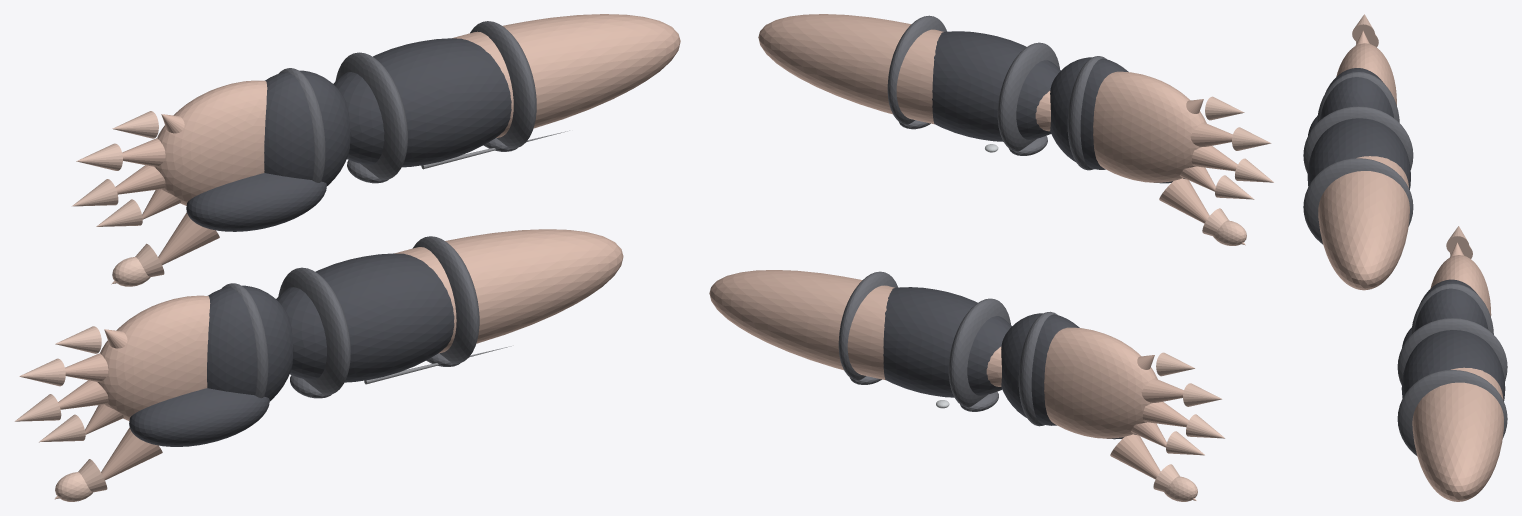
Rendered from mano.glb.
3 views of the same model, side by side, from view 1: azimuth 30°, elevation 25°; view 2: azimuth 150°, elevation 25°; view 3: azimuth 270°, elevation 25° (orthographic). The views are drawn at different scales.
Parts seen in each view (by area): view 1: lower_left_wrist_orthosis_forearm_shell, upper_right_wrist_orthosis_forearm_shell, upper_right_wrist_orthosis_forearm, lower_left_wrist_orthosis_forearm, upper_right_wrist_orthosis_palm, lower_left_wrist_orthosis_palm, upper_right_wrist_orthosis_wrist_shell, lower_left_wrist_orthosis_wrist_shell, upper_right_wrist_orthosis_thumb_spica, lower_left_wrist_orthosis_thumb_spica, lower_left_wrist_orthosis_velcro_band_1, upper_right_wrist_orthosis_velcro_band_1 (+20 smaller); view 2: upper_right_wrist_orthosis_forearm, lower_left_wrist_orthosis_forearm, lower_left_wrist_orthosis_palm, upper_right_wrist_orthosis_palm, lower_left_wrist_orthosis_forearm_shell, upper_right_wrist_orthosis_forearm_shell, upper_right_wrist_orthosis_wrist_shell, lower_left_wrist_orthosis_wrist_shell, lower_left_wrist_orthosis_velcro_band_1, upper_right_wrist_orthosis_velcro_band_1, upper_right_wrist_orthosis_velcro_band_2, lower_left_wrist_orthosis_velcro_band_2 (+10 smaller); view 3: upper_right_wrist_orthosis_forearm, lower_left_wrist_orthosis_forearm, upper_right_wrist_orthosis_forearm_shell, lower_left_wrist_orthosis_forearm_shell, upper_right_wrist_orthosis_velcro_band_2, lower_left_wrist_orthosis_velcro_band_2, lower_left_wrist_orthosis_wrist_shell, upper_right_wrist_orthosis_wrist_shell, lower_left_wrist_orthosis_velcro_band_1, upper_right_wrist_orthosis_velcro_band_1, upper_right_wrist_orthosis_palm, lower_left_wrist_orthosis_palm (+4 smaller).
Boxes of the visible parts, x1,y1,x2,y2 form: lower_left_wrist_orthosis_forearm_shell: (276,253,454,382); upper_right_wrist_orthosis_forearm_shell: (333,38,511,167); upper_right_wrist_orthosis_forearm: (452,14,680,137); lower_left_wrist_orthosis_forearm: (394,229,623,353); upper_right_wrist_orthosis_palm: (154,80,267,205); lower_left_wrist_orthosis_palm: (97,295,210,420); upper_right_wrist_orthosis_wrist_shell: (264,70,350,185); lower_left_wrist_orthosis_wrist_shell: (207,285,292,401); upper_right_wrist_orthosis_thumb_spica: (186,173,326,231); lower_left_wrist_orthosis_thumb_spica: (129,388,269,446); lower_left_wrist_orthosis_velcro_band_1: (278,267,350,395); upper_right_wrist_orthosis_velcro_band_1: (335,52,407,180); upper_right_wrist_orthosis_forearm: (758,14,1050,131); lower_left_wrist_orthosis_forearm: (709,270,1001,386); lower_left_wrist_orthosis_palm: (1044,327,1157,438); upper_right_wrist_orthosis_palm: (1093,71,1206,182); lower_left_wrist_orthosis_forearm_shell: (883,287,1011,397); upper_right_wrist_orthosis_forearm_shell: (932,31,1060,141); upper_right_wrist_orthosis_wrist_shell: (1050,57,1128,169); lower_left_wrist_orthosis_wrist_shell: (1001,313,1079,425); lower_left_wrist_orthosis_velcro_band_1: (948,298,1010,407); upper_right_wrist_orthosis_velcro_band_1: (997,42,1059,151); upper_right_wrist_orthosis_velcro_band_2: (887,15,946,124); lower_left_wrist_orthosis_velcro_band_2: (838,271,898,380); upper_right_wrist_orthosis_forearm: (1318,156,1409,290); lower_left_wrist_orthosis_forearm: (1412,367,1503,501); upper_right_wrist_orthosis_forearm_shell: (1307,118,1410,189); lower_left_wrist_orthosis_forearm_shell: (1401,330,1505,401); upper_right_wrist_orthosis_velcro_band_2: (1303,158,1413,244); lower_left_wrist_orthosis_velcro_band_2: (1397,370,1507,456); lower_left_wrist_orthosis_wrist_shell: (1414,279,1488,331); upper_right_wrist_orthosis_wrist_shell: (1320,68,1393,120); lower_left_wrist_orthosis_velcro_band_1: (1397,318,1507,385); upper_right_wrist_orthosis_velcro_band_1: (1303,106,1413,173); upper_right_wrist_orthosis_palm: (1336,43,1396,105); lower_left_wrist_orthosis_palm: (1430,255,1491,316).
Size of the model in its own units: 3.05 by 2.09 by 1.08.
